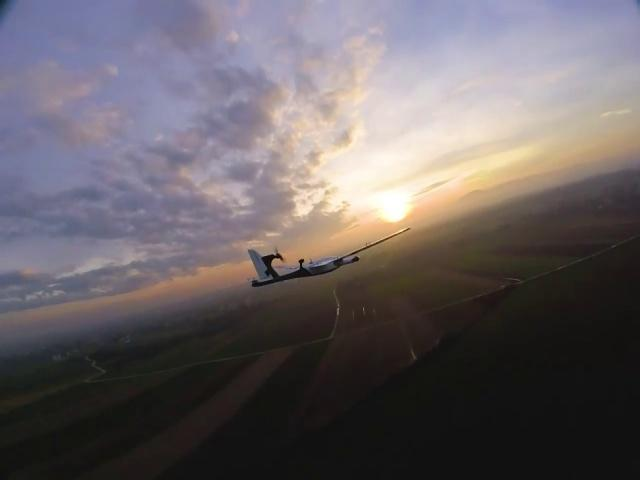Airplane: (246, 223, 417, 292)
